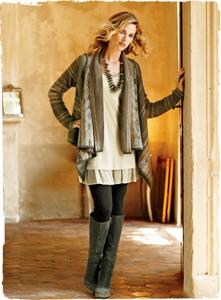S_cardigan sweater: (41, 54, 184, 162)
